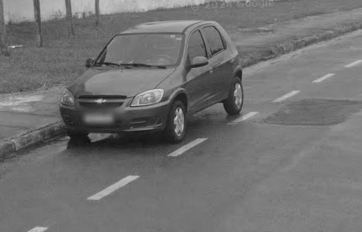car: (57, 16, 251, 148)
